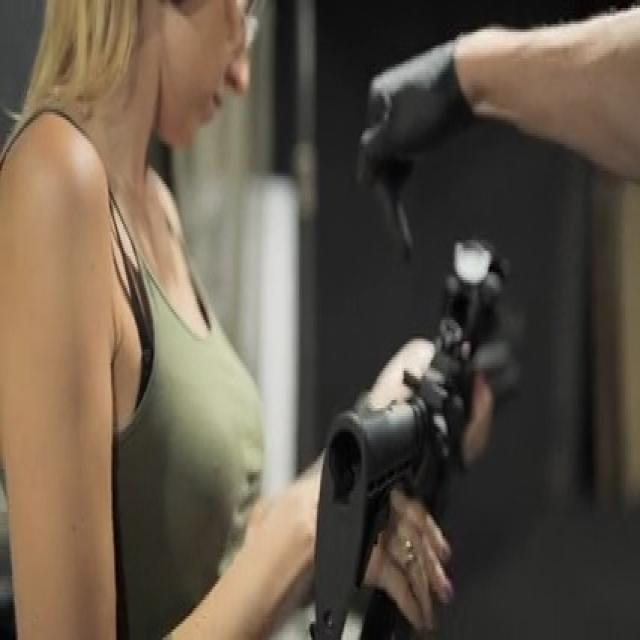Gun_Holder: (293, 208, 572, 640)
Person: (1, 0, 451, 640)
